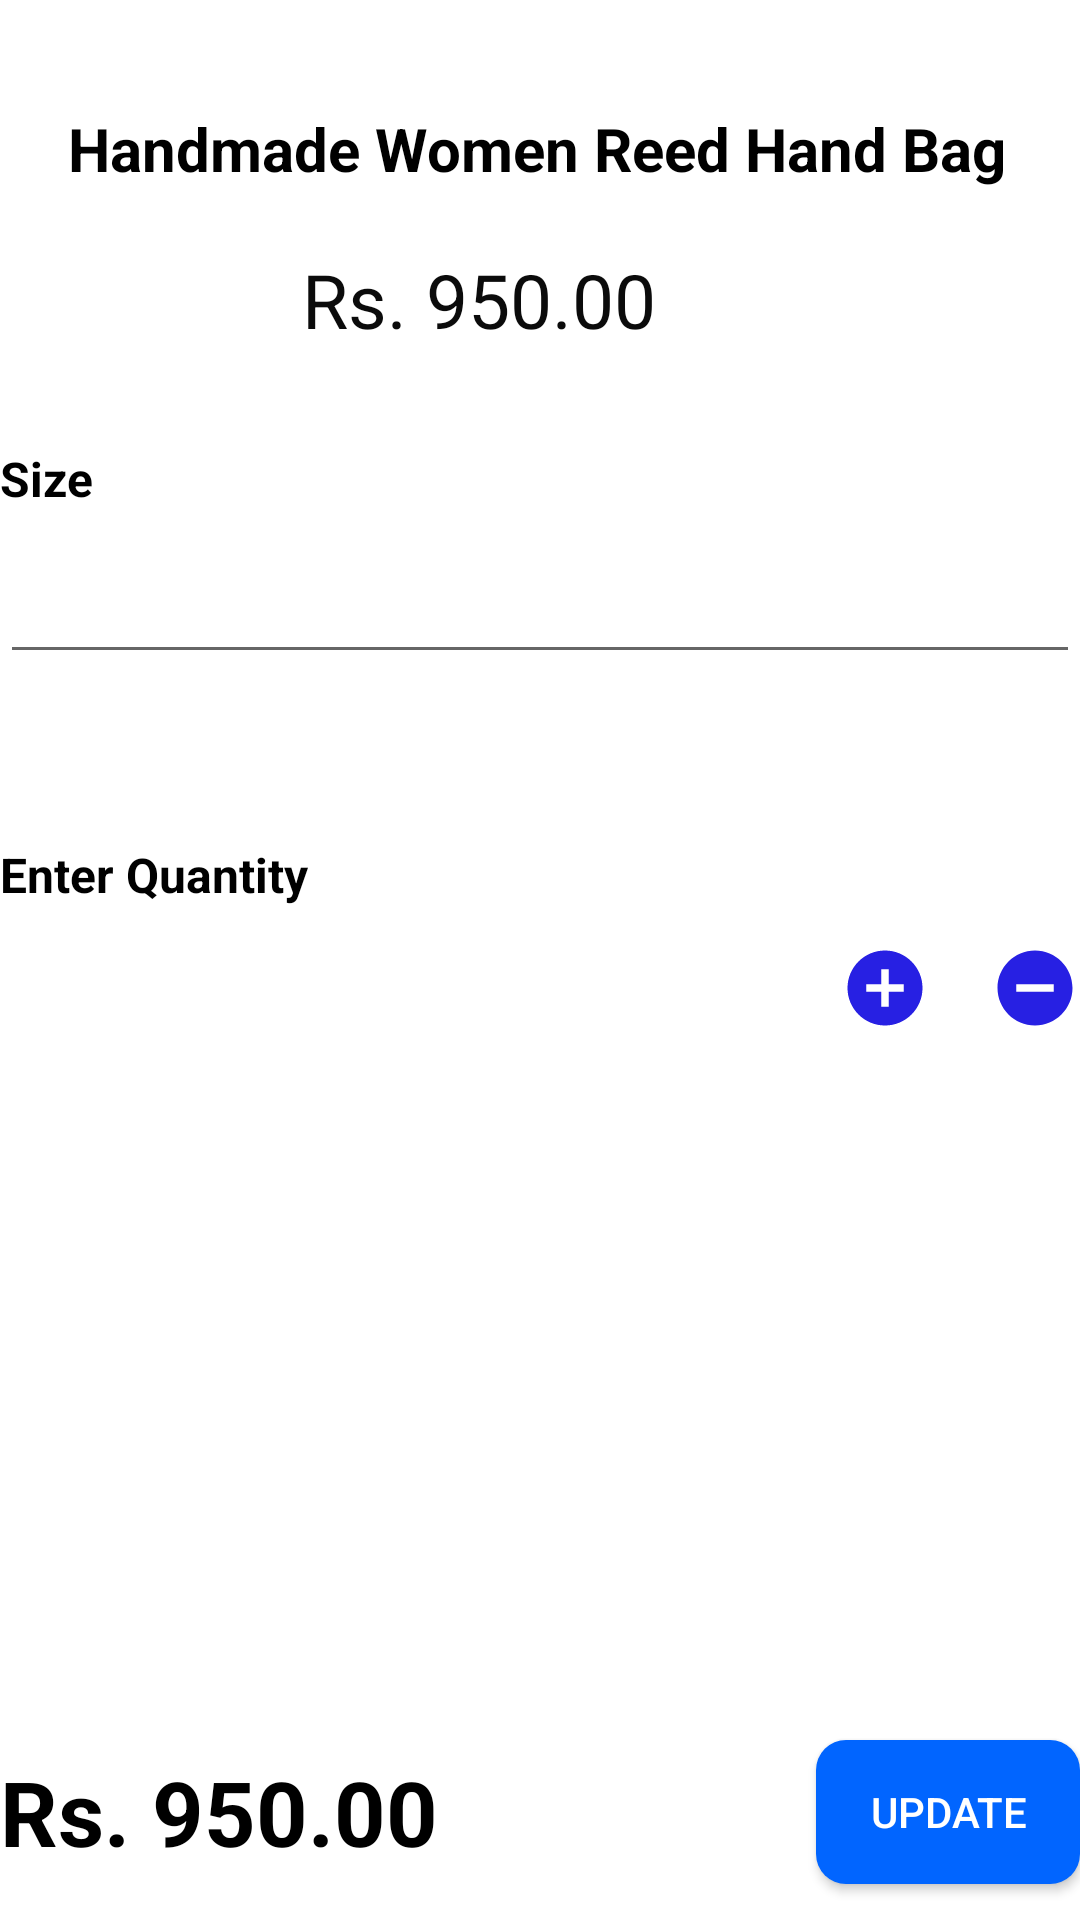

Icons on this 1080x1920 Android screen, each with its box as (x1, y1, x2, y2):
add circle: (847, 950, 923, 1026)
remove: (997, 950, 1073, 1026)
